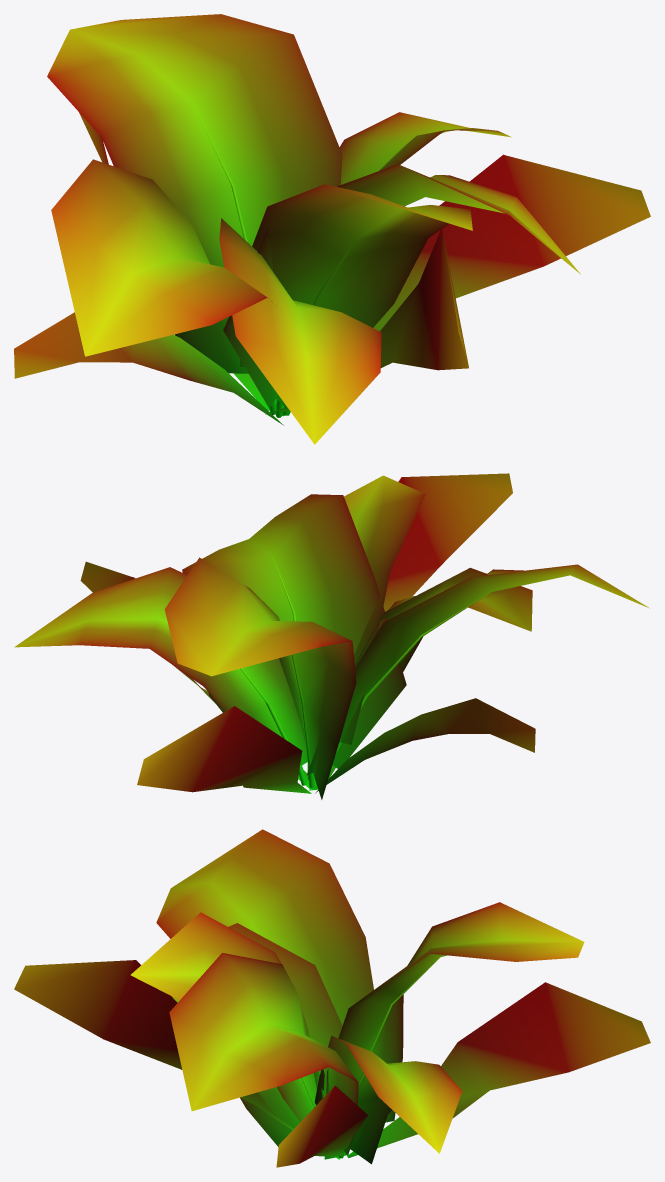
File: Silver Lady Fern_LOD2_Var2_ubolejkia.fbx
3 renders of one model, top to bottom at view 1: azimuth 30°, elevation 25°; view 2: azimuth 150°, elevation 25°; view 3: azimuth 270°, elevation 25°, orthographic. The views are drawn at different scales.
Parts seen in each view (by area): view 1: _3ba1_Var2_LOD2; view 2: _3ba1_Var2_LOD2; view 3: _3ba1_Var2_LOD2.
Boxes of the visible parts, left/top/right/bottom form: _3ba1_Var2_LOD2: left=14, top=14, right=650, bottom=444; _3ba1_Var2_LOD2: left=14, top=473, right=649, bottom=799; _3ba1_Var2_LOD2: left=14, top=829, right=650, bottom=1167.
Bounding box in the file's own units: 153 × 73.37 × 180.
